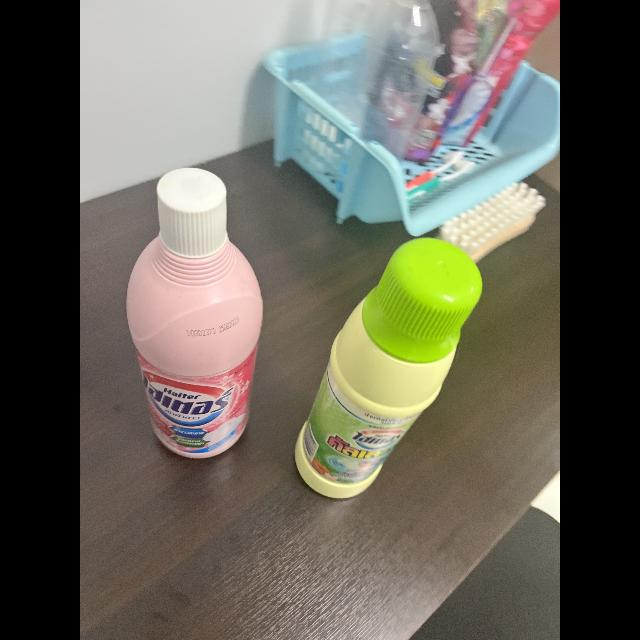chemical_plastic_bottle: (291, 235, 481, 503), (126, 162, 260, 464)
